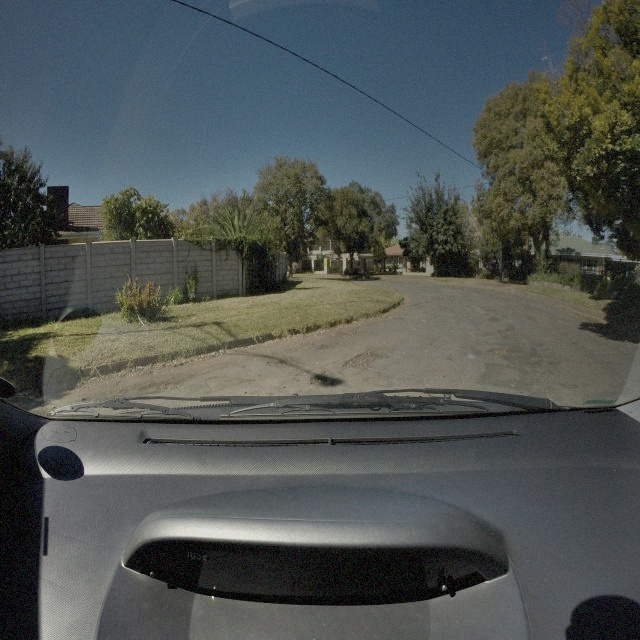pothole: (342, 346, 379, 372), (310, 369, 329, 385), (490, 346, 509, 356), (497, 329, 514, 337)
